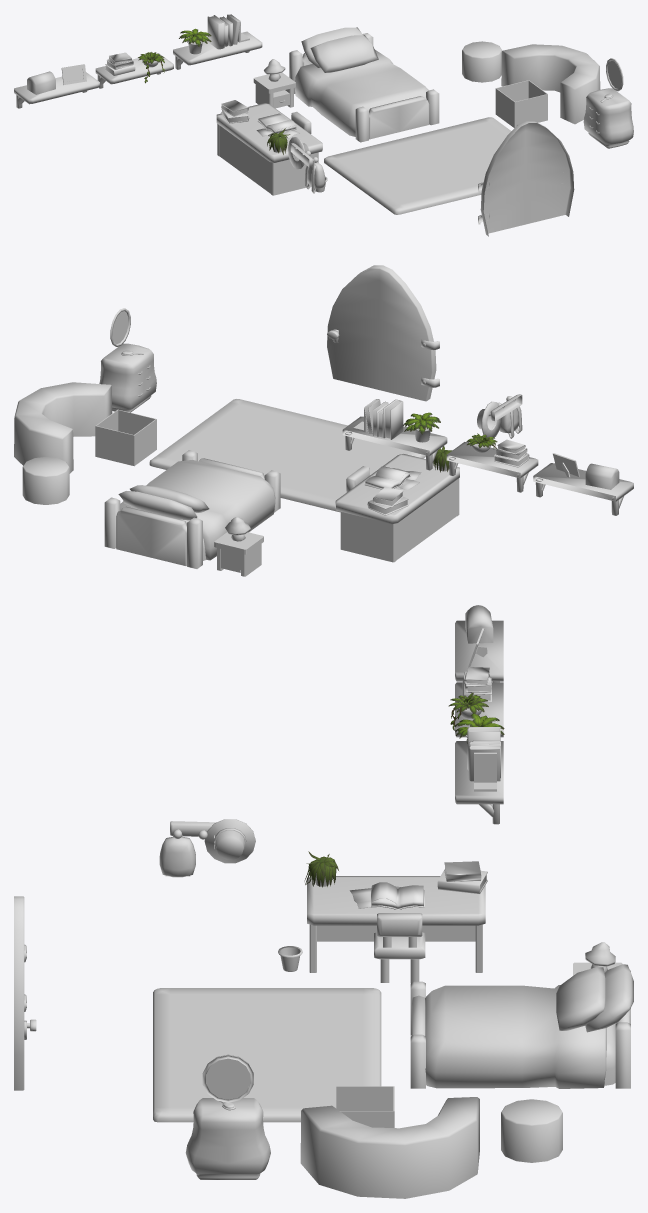
The model's file is Muebles_LOW 1.fbx.
3 views of the same model, one above another, from view 1: azimuth 30°, elevation 25°; view 2: azimuth 150°, elevation 25°; view 3: azimuth 270°, elevation 25° (orthographic). The views are drawn at different scales.
Visible parts, largest first — view 1: Alfombra_LOW, Puerta_LOW, Cama_LOW, Escritorio_LOW, Mesa_curva_LOW, Dresser_LOW, Caja_De_Objetos, Cabecero_pies_LOW, Almohada1_LOW, Taburete_LOW, Estanteria1_LOW, Mesilla_LOW (+17 smaller); view 2: Alfombra_LOW, Puerta_LOW, Escritorio_LOW, Mesa_curva_LOW, Cama_LOW, Cabecero_LOW, Dresser_LOW, Caja_De_Objetos, Taburete_LOW, Estanteria3_LOW, Estanteria1_LOW, Mesilla_LOW (+14 smaller); view 3: Alfombra_LOW, Cama_LOW, Mesa_curva_LOW, Escritorio_LOW, Dresser_LOW, Taburete_LOW, Silla_LOW, Almohada1_LOW, Puerta_LOW, Caja_De_Objetos, Espejo_LOW, Estanteria3_LOW (+12 smaller).
Part boxes in pixels (x1=…): Alfombra_LOW: x1=324, y1=117, x2=511, y2=214; Puerta_LOW: x1=478, y1=120, x2=574, y2=236; Cama_LOW: x1=295, y1=50, x2=428, y2=136; Escritorio_LOW: x1=216, y1=103, x2=322, y2=195; Mesa_curva_LOW: x1=501, y1=44, x2=600, y2=124; Dresser_LOW: x1=583, y1=88, x2=633, y2=148; Caja_De_Objetos: x1=495, y1=80, x2=547, y2=127; Cabecero_pies_LOW: x1=369, y1=96, x2=429, y2=139; Almohada1_LOW: x1=310, y1=35, x2=378, y2=72; Taburete_LOW: x1=462, y1=41, x2=502, y2=82; Estanteria1_LOW: x1=173, y1=31, x2=262, y2=69; Mesilla_LOW: x1=253, y1=72, x2=295, y2=108; Alfombra_LOW: x1=149, y1=399, x2=425, y2=512; Puerta_LOW: x1=327, y1=265, x2=439, y2=401; Escritorio_LOW: x1=335, y1=454, x2=459, y2=562; Mesa_curva_LOW: x1=14, y1=382, x2=112, y2=473; Cama_LOW: x1=120, y1=460, x2=275, y2=560; Cabecero_LOW: x1=116, y1=506, x2=186, y2=565; Dresser_LOW: x1=99, y1=343, x2=156, y2=412; Caja_De_Objetos: x1=95, y1=409, x2=156, y2=466; Taburete_LOW: x1=22, y1=457, x2=69, y2=504; Estanteria3_LOW: x1=533, y1=463, x2=633, y2=515; Estanteria1_LOW: x1=342, y1=416, x2=447, y2=470; Mesilla_LOW: x1=214, y1=532, x2=263, y2=576; Alfombra_LOW: x1=153, y1=988, x2=381, y2=1122; Cama_LOW: x1=425, y1=985, x2=616, y2=1088; Mesa_curva_LOW: x1=300, y1=1097, x2=479, y2=1198; Escritorio_LOW: x1=307, y1=876, x2=485, y2=972; Dresser_LOW: x1=185, y1=1098, x2=270, y2=1179; Taburete_LOW: x1=501, y1=1099, x2=562, y2=1162; Silla_LOW: x1=374, y1=913, x2=425, y2=982; Almohada1_LOW: x1=556, y1=967, x2=605, y2=1030; Puerta_LOW: x1=14, y1=896, x2=36, y2=1090; Caja_De_Objetos: x1=335, y1=1086, x2=394, y2=1127; Espejo_LOW: x1=202, y1=1054, x2=253, y2=1102; Estanteria3_LOW: x1=455, y1=620, x2=503, y2=682.
Bounding box in the file's own units: 2481 × 592 × 1588.
